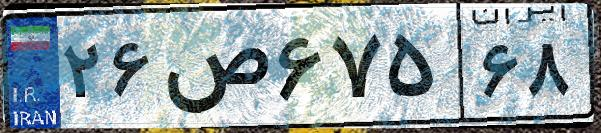2: (57, 26, 110, 100)
5: (385, 28, 445, 110)
6: (270, 28, 330, 110), (475, 38, 525, 113), (110, 28, 158, 98)
7: (330, 28, 385, 110)
8: (525, 38, 570, 115)
ص: (158, 20, 270, 120)
